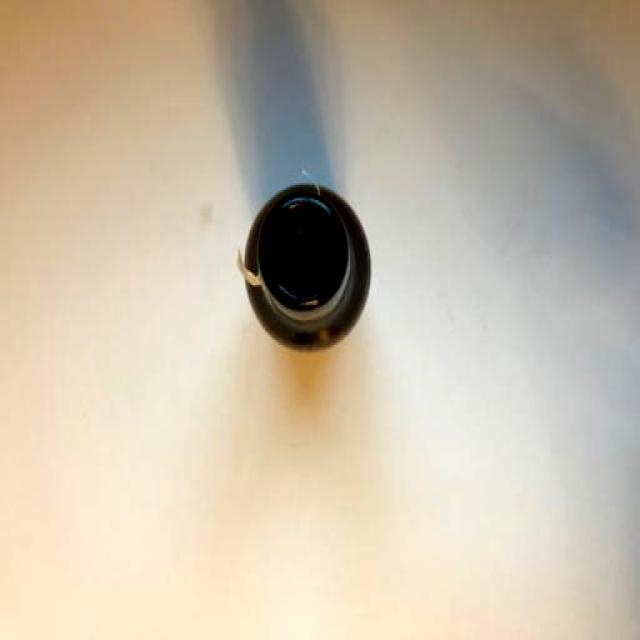Glass: (238, 174, 378, 358)
